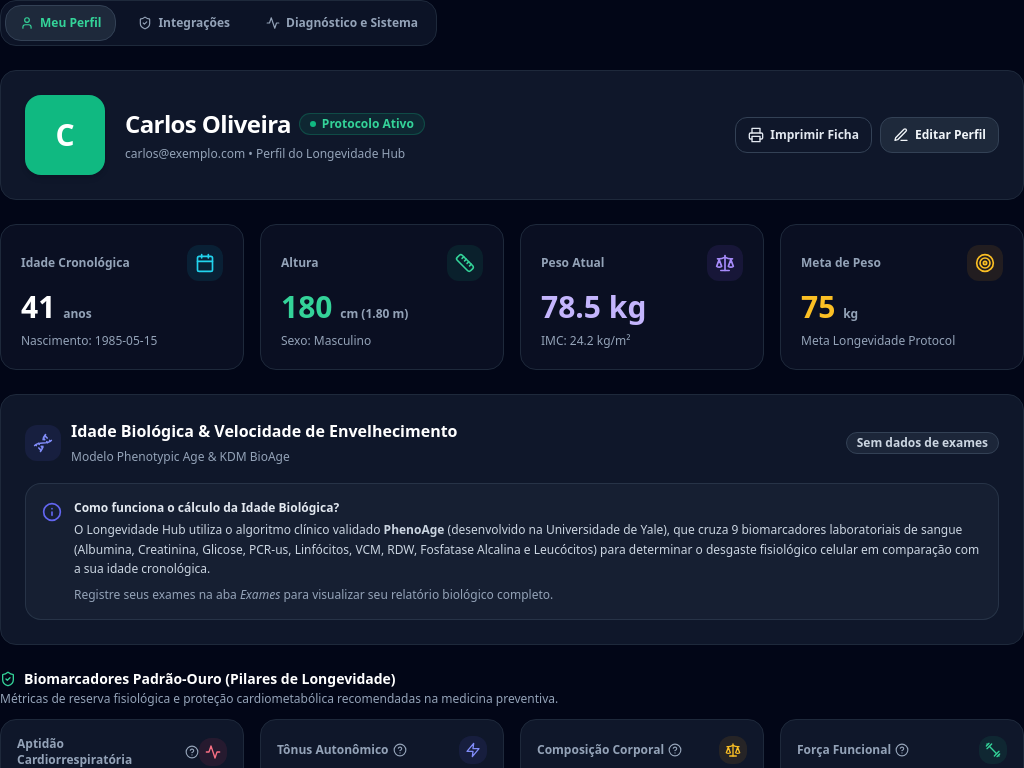
it: ProfileView (UX_UI_59 — Profile / Settings Information Architecture) › opens and cancels edit mode
Click the button "Editar Perfil": (940, 135) [880,117,999,153]
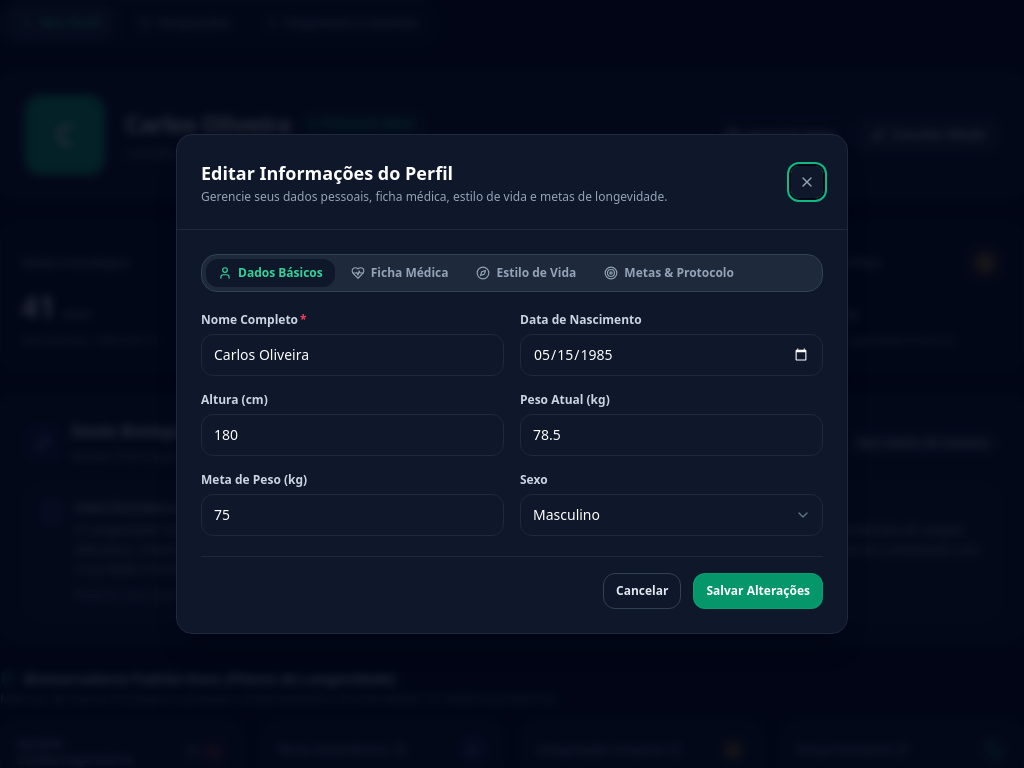
Check: the heading "Editar Informações do Perfil" is shown, box [201,161,453,185]
Check: the field labelled "Nome Completo*" holds "Carlos Oliveira", box [201,334,504,376]
Click the button "Cancelar": (642, 591) [603,573,682,609]
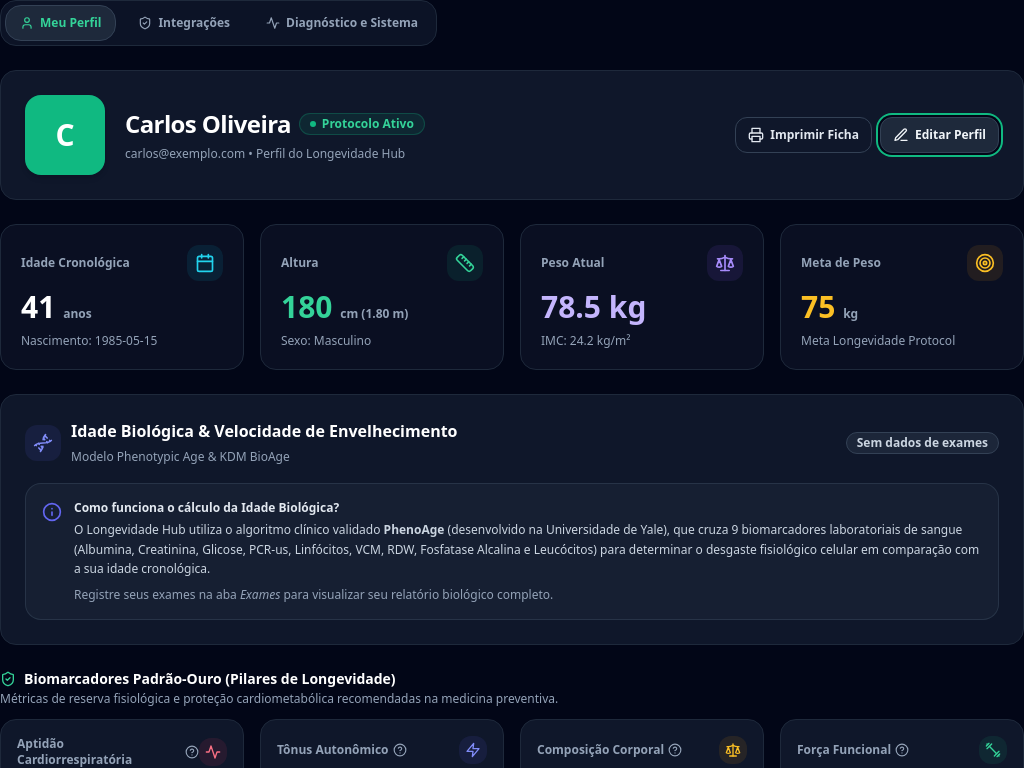
Check: the heading "Editar Informações do Perfil" is gone
